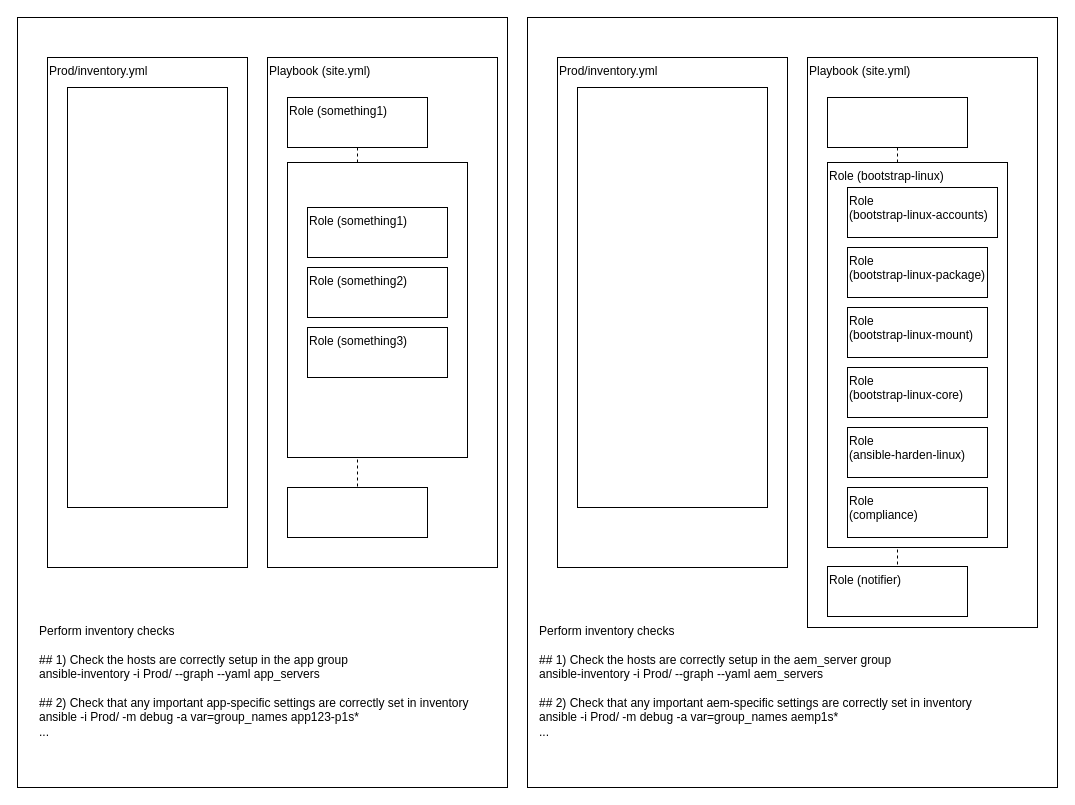
Some shapes in this 1075 by 805 pixel diagram are drawn without their labels. Each missing label, with the box of its shape:
all: children: aem_servers: ## AEM group specific vars vars: hosts:: (576, 86, 768, 508)
all: children: some_groups_servers: ## group specific vars vars: hosts:: (66, 86, 228, 508)
Role (apply_common_groups): (826, 96, 968, 148)
Role (complex-role): (286, 162, 468, 458)
Role (something else): (286, 486, 428, 538)
Use Case 2 : Complex bootstrap usage: (16, 16, 508, 788)
Use Case 2 Example : Complex bootstrap usage: (526, 16, 1058, 788)
